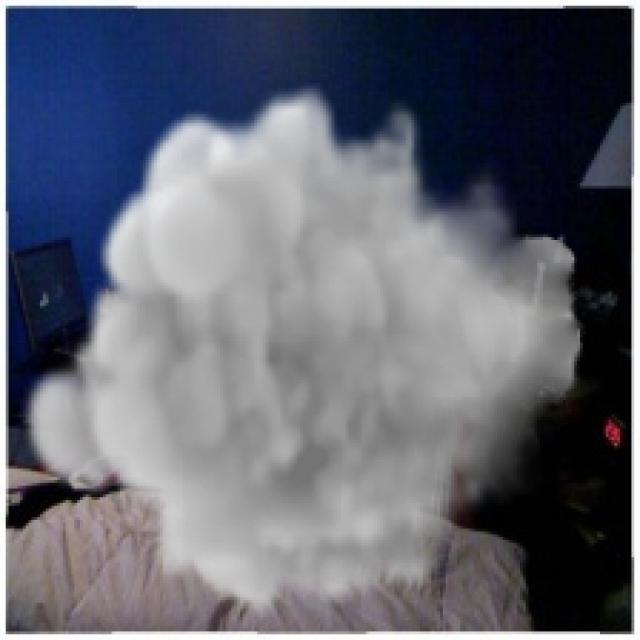Smoke: (17, 82, 586, 618)
